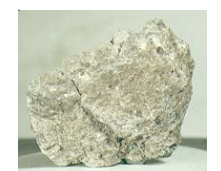Breccia: (31, 38, 203, 153)
